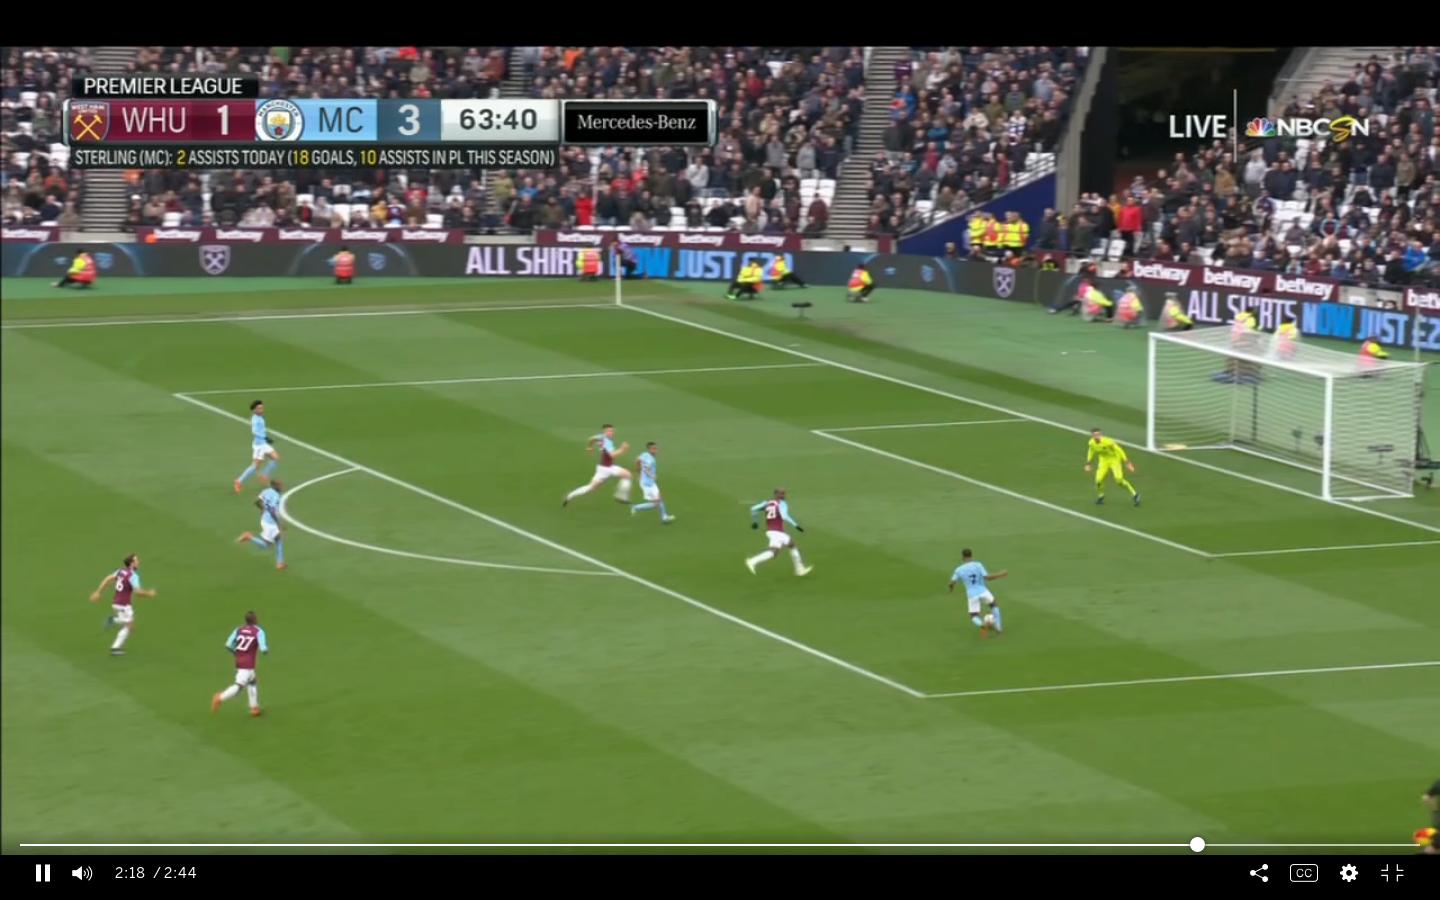soccer player: (205, 606, 281, 729), (87, 549, 165, 666), (741, 488, 818, 589), (230, 477, 295, 577), (561, 426, 630, 514), (1081, 425, 1144, 512), (230, 399, 284, 497), (628, 436, 676, 531), (947, 549, 1001, 619)
soccerball: (979, 611, 998, 629)
